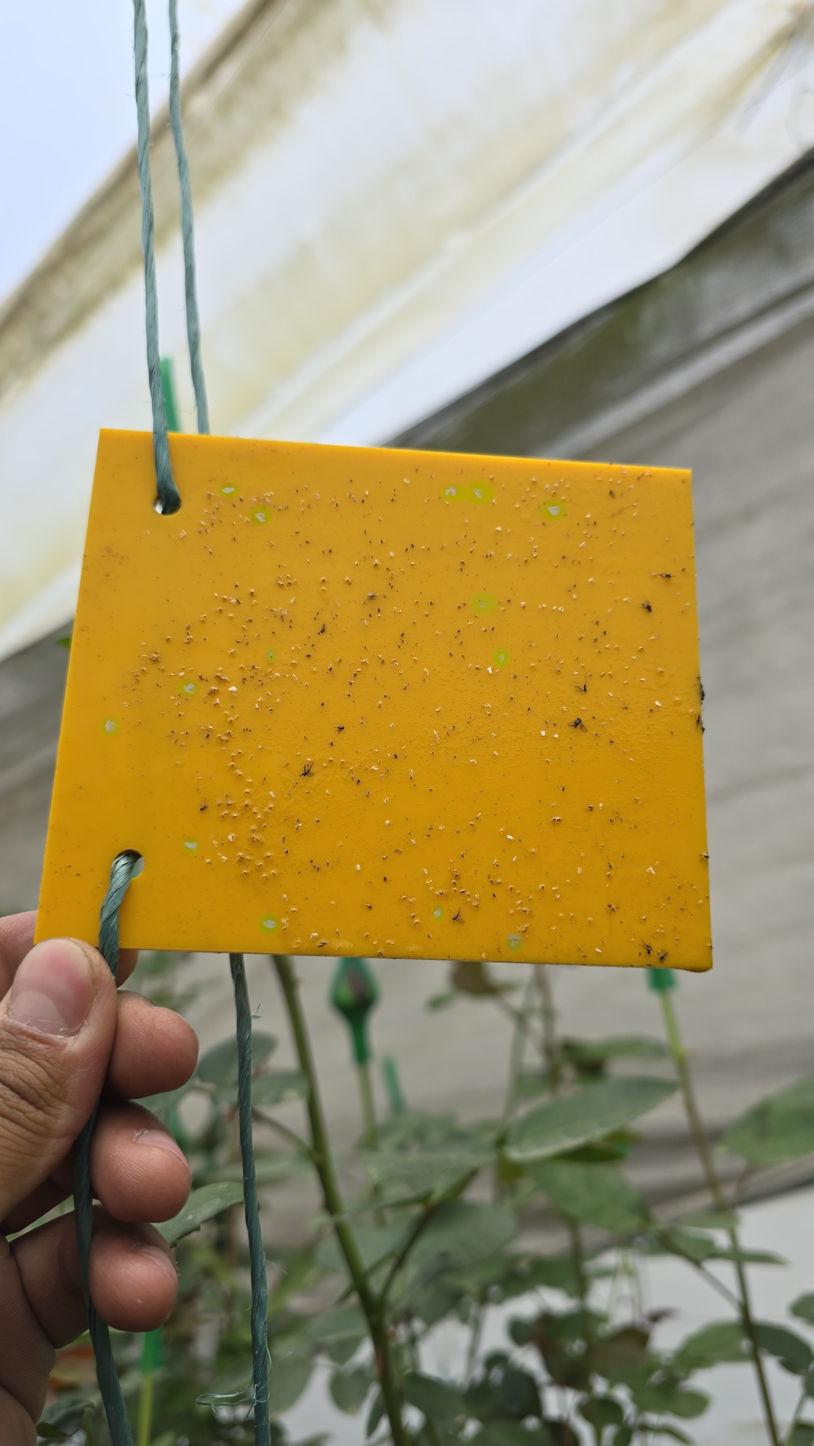WF: (467, 483, 491, 502), (473, 595, 494, 613), (543, 501, 563, 518), (251, 507, 270, 523), (443, 486, 464, 500), (260, 916, 277, 932), (102, 718, 117, 734), (179, 681, 196, 694), (183, 839, 198, 853), (220, 484, 237, 496), (507, 936, 521, 950), (494, 650, 507, 665), (433, 906, 443, 921), (646, 865, 657, 876), (592, 947, 605, 955), (267, 649, 275, 661), (382, 818, 392, 827), (270, 790, 280, 799), (227, 686, 239, 693), (506, 834, 515, 843), (227, 834, 235, 844), (179, 531, 190, 538), (222, 855, 230, 864), (485, 667, 494, 675), (577, 866, 584, 876), (265, 498, 273, 506), (372, 765, 380, 773), (654, 701, 662, 709), (290, 596, 297, 605), (588, 577, 597, 584), (540, 729, 547, 738), (470, 758, 479, 765), (228, 599, 238, 605), (364, 489, 371, 497), (544, 484, 551, 492), (608, 691, 615, 699), (312, 932, 321, 938), (582, 514, 592, 519), (207, 724, 214, 731), (532, 552, 539, 559), (624, 596, 631, 603), (553, 733, 560, 740), (284, 608, 290, 616), (280, 895, 288, 901), (495, 526, 503, 532), (519, 602, 527, 608), (403, 479, 411, 485), (632, 513, 640, 519), (492, 751, 500, 757), (279, 608, 285, 615), (356, 864, 362, 871), (513, 855, 519, 862), (411, 839, 417, 846), (579, 542, 586, 548), (389, 723, 396, 729), (423, 869, 429, 876), (640, 677, 647, 683), (179, 672, 185, 678), (436, 707, 442, 713), (245, 518, 252, 523), (275, 673, 282, 678), (216, 698, 221, 704), (573, 594, 578, 600), (573, 671, 579, 676), (552, 607, 557, 612), (206, 859, 212, 863), (558, 606, 562, 612), (492, 733, 497, 737), (543, 604, 548, 608), (562, 608, 566, 612)
